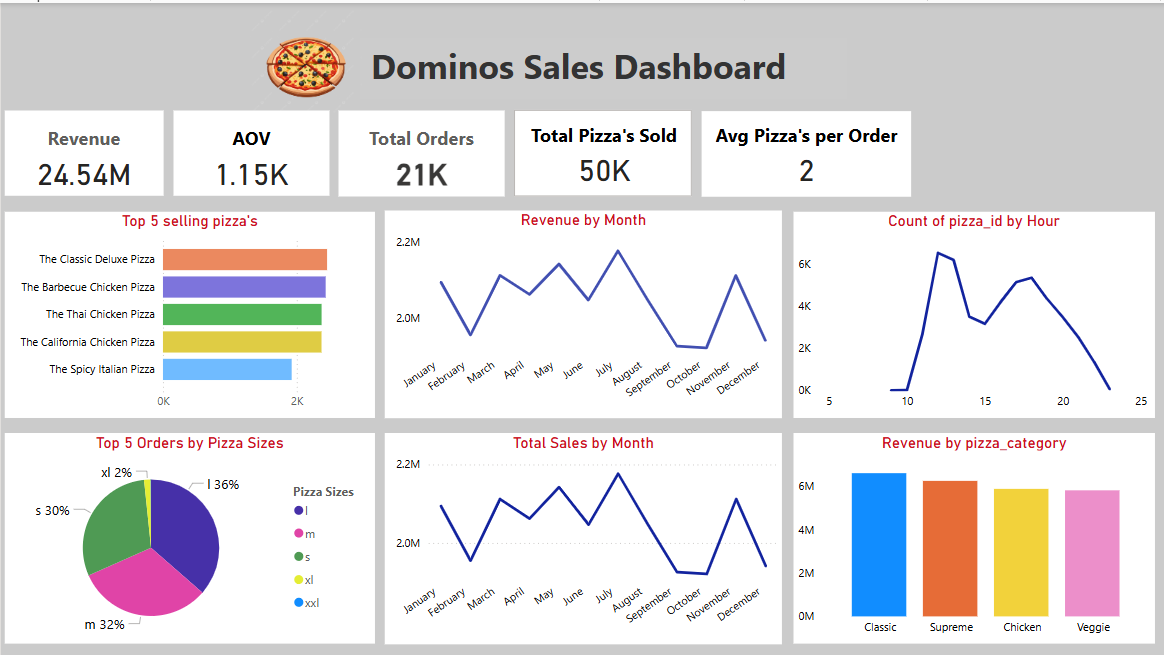

The page's visual inventory and layout, read from the dashboard file:
{"tool":"powerbi","page":{"name":"Page 1","canvas":[1280,720],"ordinal":0},"visuals":[{"type":"cardVisual","fields":{"Data":["Dataset.Revenue"]},"box":[4.1,118,174.3,93.3],"z":0},{"type":"lineChart","title":"Revenue by Month ","fields":{"Category":["Dataset.Month Name"],"Y":["Dataset.Revenue"]},"box":[421.3,227.8,436.4,227.8],"z":1000},{"type":"lineChart","fields":{"Category":["Dataset.Hour"],"Y":["CountNonNull(Dataset.pizza_id)"]},"box":[870,229.2,396.6,226.4],"z":2000},{"type":"columnChart","fields":{"Category":["Dataset.pizza_category"],"Y":["Dataset.Revenue"]},"box":[869.6,472.7,396.9,231.5],"z":3000},{"type":"cardVisual","fields":{"Data":["Dataset.AOV"]},"box":[189.4,118,171.5,93.3],"z":4000},{"type":"textbox","box":[394.1,38.6,534.7,67.5],"z":5000},{"type":"cardVisual","fields":{"Data":["Dataset.Total Orders"]},"box":[370.5,118,182.5,94.7],"z":6000},{"type":"barChart","title":"Top 5 selling pizza''s","fields":{"Category":["Dataset.pizza_name"],"Y":["Sum(Dataset.quantity)"]},"box":[4.1,229.5,406.5,226.7],"z":7000},{"type":"pieChart","title":"Top 5 Orders by Pizza Sizes","fields":{"Category":["Dataset.Pizza Sizes"],"Y":["Dataset.Total Orders"]},"box":[4.1,472.7,406.5,231.5],"z":8000},{"type":"cardVisual","fields":{"Data":["Dataset.Total Pizza Sold"]},"box":[558.5,112.5,205.8,105.7],"z":9000},{"type":"cardVisual","fields":{"Data":["Dataset.Avg Pizza per Order"]},"box":[764.3,113.9,240.1,104.3],"z":10000},{"type":"image","box":[247.5,0,174.2,134.1],"z":11000},{"type":"lineChart","fields":{"Category":["Dataset.order_date.Variation.Date Hierarchy.Month"],"Y":["Dataset.Total Sales"]},"box":[421.3,472,436.4,231.9],"z":12000}]}

Visuals, with their boxes in screenshot pixels (x1, y1, x2, y2), scaled from the page's 1280x720 canvas onto the 1164x655 screenshot:
cardVisual - Dataset.Revenue: (x1=4, y1=107, x2=162, y2=192)
"Revenue by Month " lineChart: (x1=383, y1=207, x2=780, y2=414)
lineChart - Dataset.Hour x CountNonNull(Dataset.pizza_id): (x1=791, y1=209, x2=1152, y2=414)
columnChart - Dataset.pizza_category x Dataset.Revenue: (x1=791, y1=430, x2=1152, y2=641)
cardVisual - Dataset.AOV: (x1=172, y1=107, x2=328, y2=192)
textbox: (x1=358, y1=35, x2=845, y2=97)
cardVisual - Dataset.Total Orders: (x1=337, y1=107, x2=503, y2=193)
"Top 5 selling pizza''s" barChart: (x1=4, y1=209, x2=373, y2=415)
"Top 5 Orders by Pizza Sizes" pieChart: (x1=4, y1=430, x2=373, y2=641)
cardVisual - Dataset.Total Pizza Sold: (x1=508, y1=102, x2=695, y2=199)
cardVisual - Dataset.Avg Pizza per Order: (x1=695, y1=104, x2=913, y2=199)
image: (x1=225, y1=0, x2=383, y2=122)
lineChart - Dataset.order_date.Variation.Date Hierarchy.Month x Dataset.Total Sales: (x1=383, y1=429, x2=780, y2=640)
